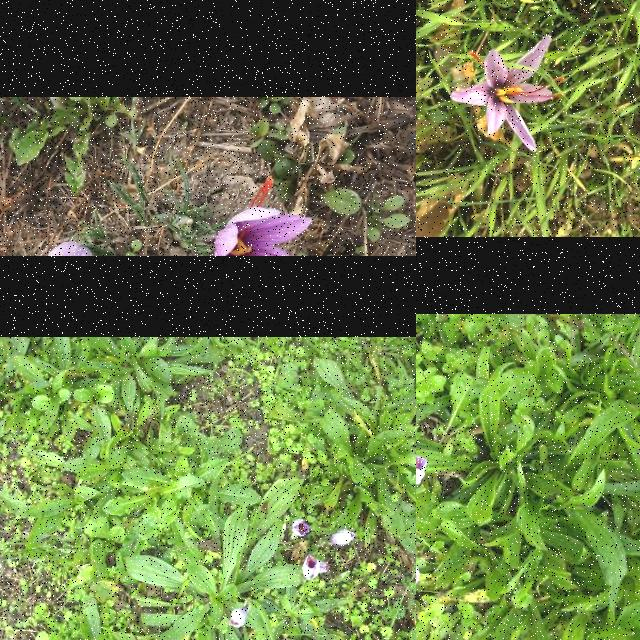flower: (453, 35, 563, 151), (213, 175, 314, 256), (35, 242, 99, 256), (302, 555, 321, 581), (416, 452, 426, 497), (328, 530, 356, 546), (230, 606, 248, 628), (292, 518, 310, 538)
